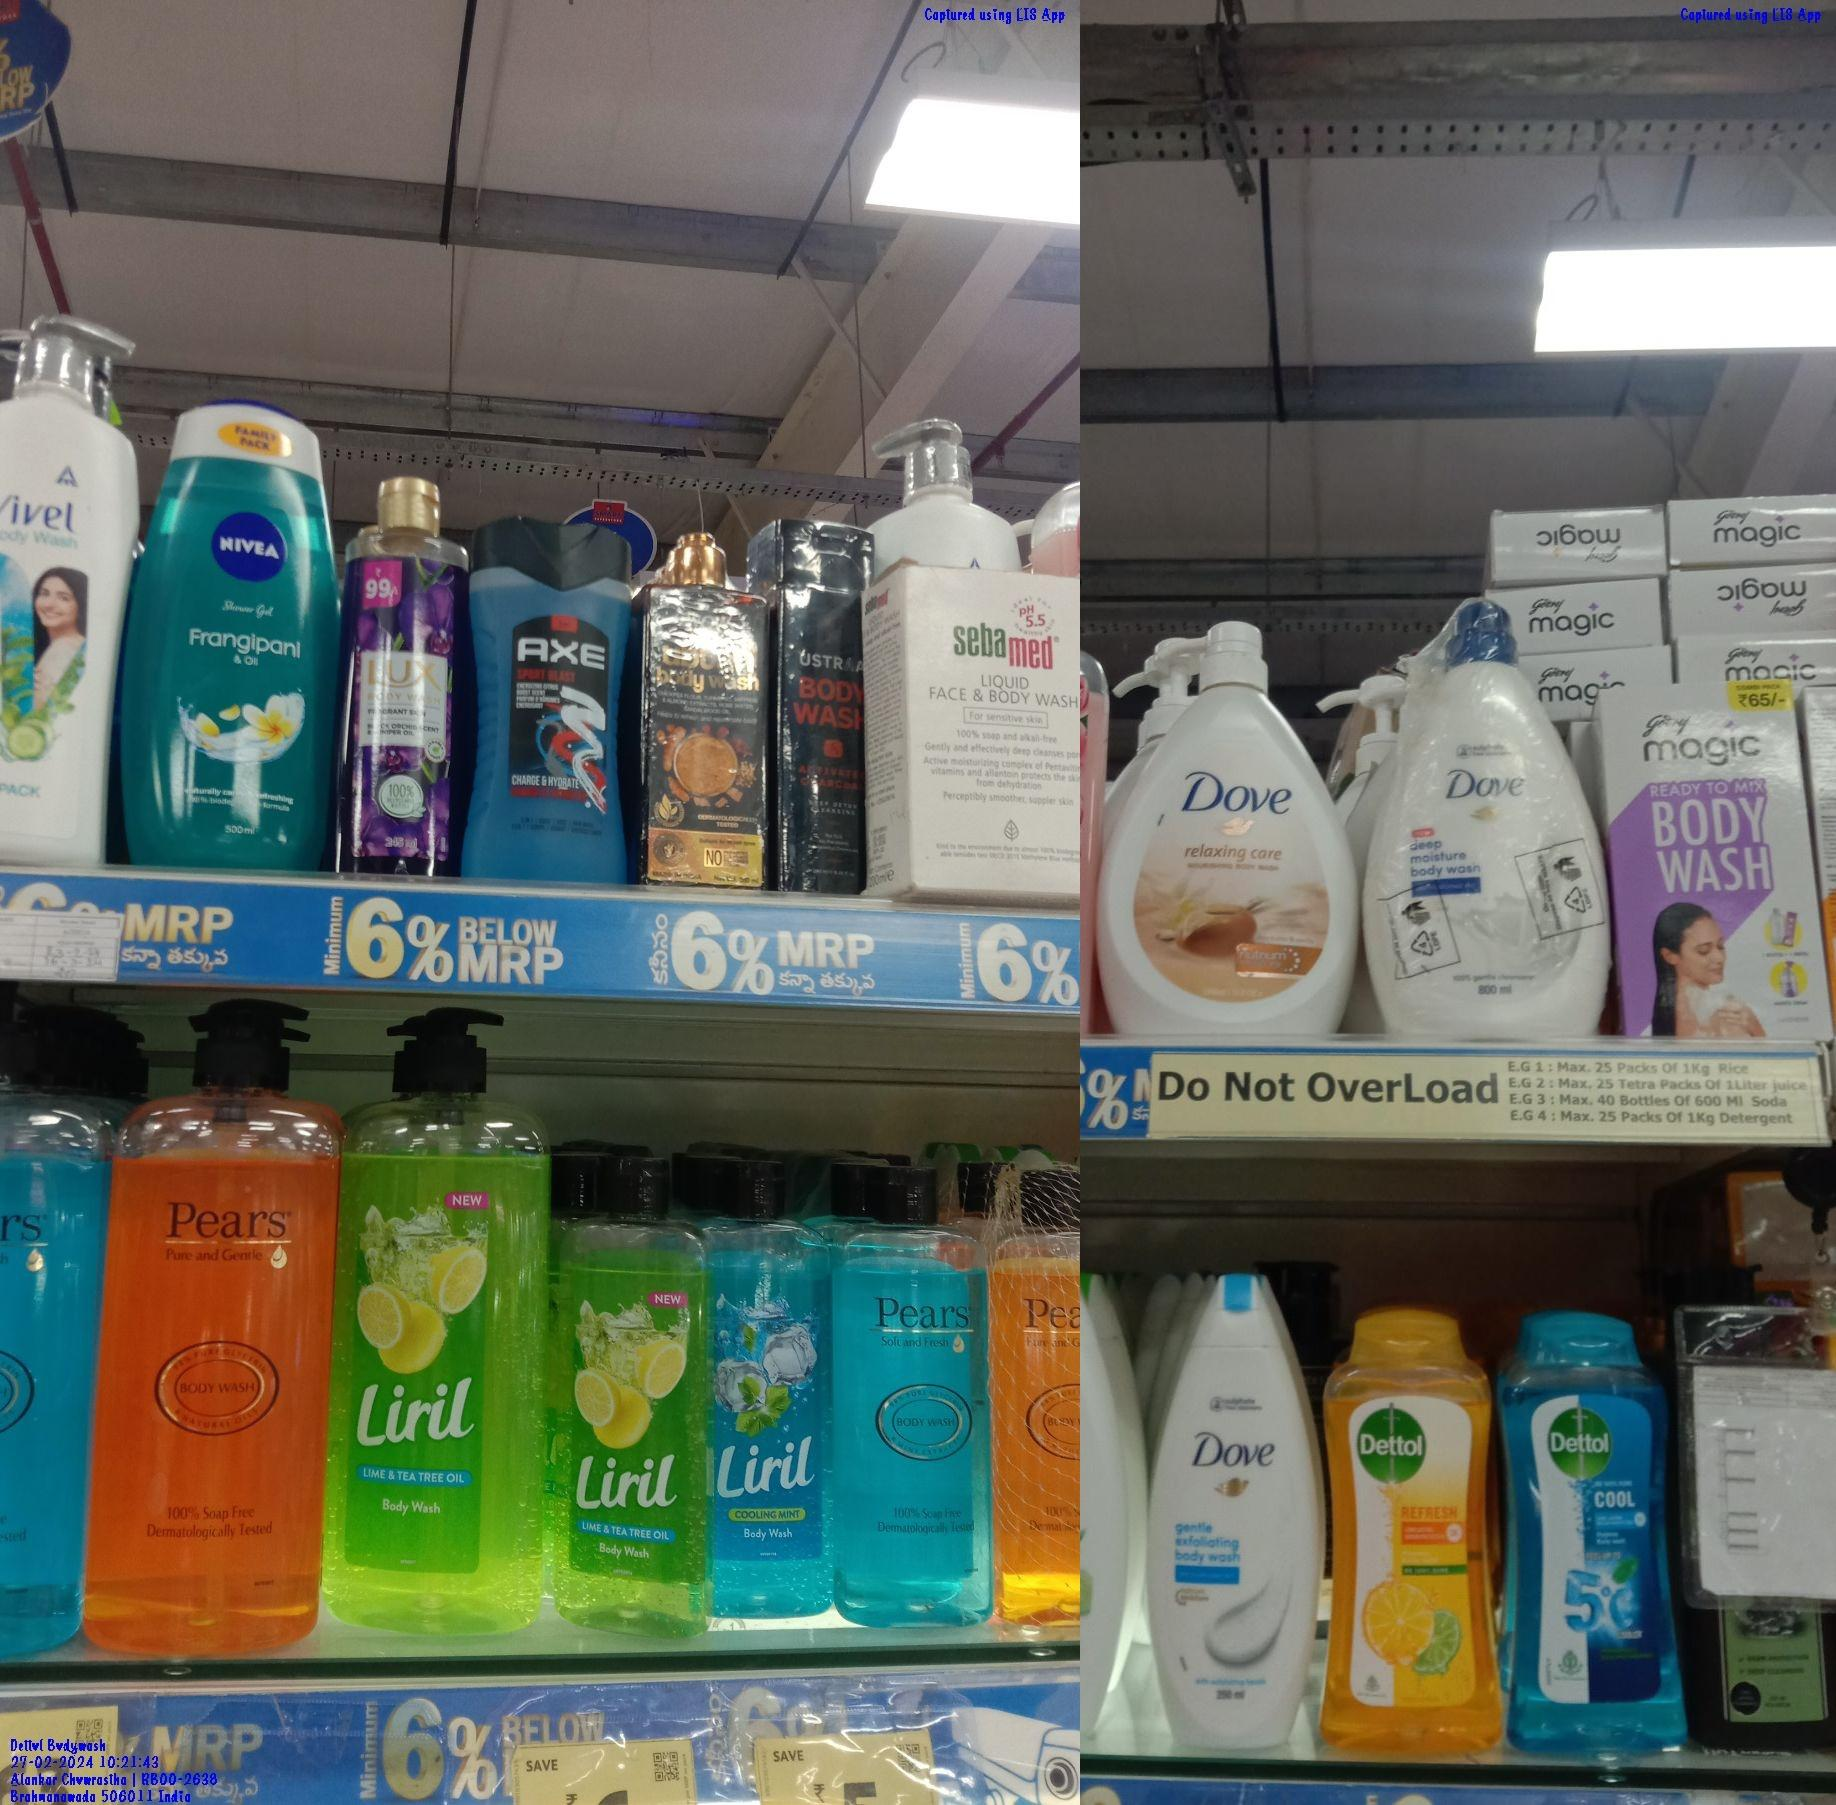Dettol_Bodywash_Cool: (1512, 1312, 1687, 1757)
Dettol_Bodywash_Refresh: (1334, 1312, 1499, 1762)
Dove_Gentle_Exfoliating_Body_Wash_250ML: (1144, 1276, 1324, 1759)
Liril_Lime_and_Tea_Tree_Oil_Body_Wash_250ML: (560, 1150, 716, 1631)
Lux_Black_Orchid_Scent_and_Juniper_Oil_Body_Wash_245ML: (350, 474, 468, 873)
Nivea_Shower_Gel_Frangipani_and_Oil_250ML: (144, 400, 326, 864)
Pears_Pure_Glycerin_and_Mint_Extracts_Body_Wash_250ML: (840, 1169, 993, 1628)
